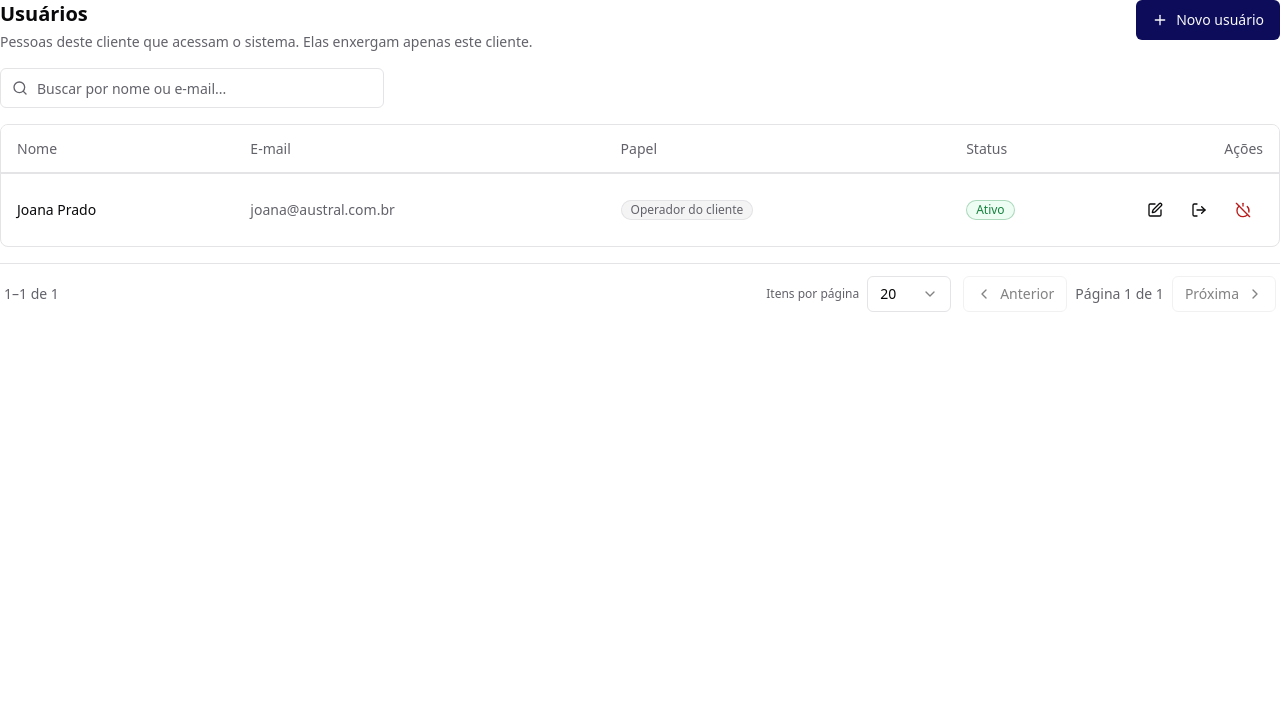
it: ClientUsersScreen — gaveta de criação › exige senha de 10 caracteres com a mesma regra do backend
The image size is (1280, 720).
Click the button "Novo usuário" at (1208, 20), box [1136,0,1279,40]
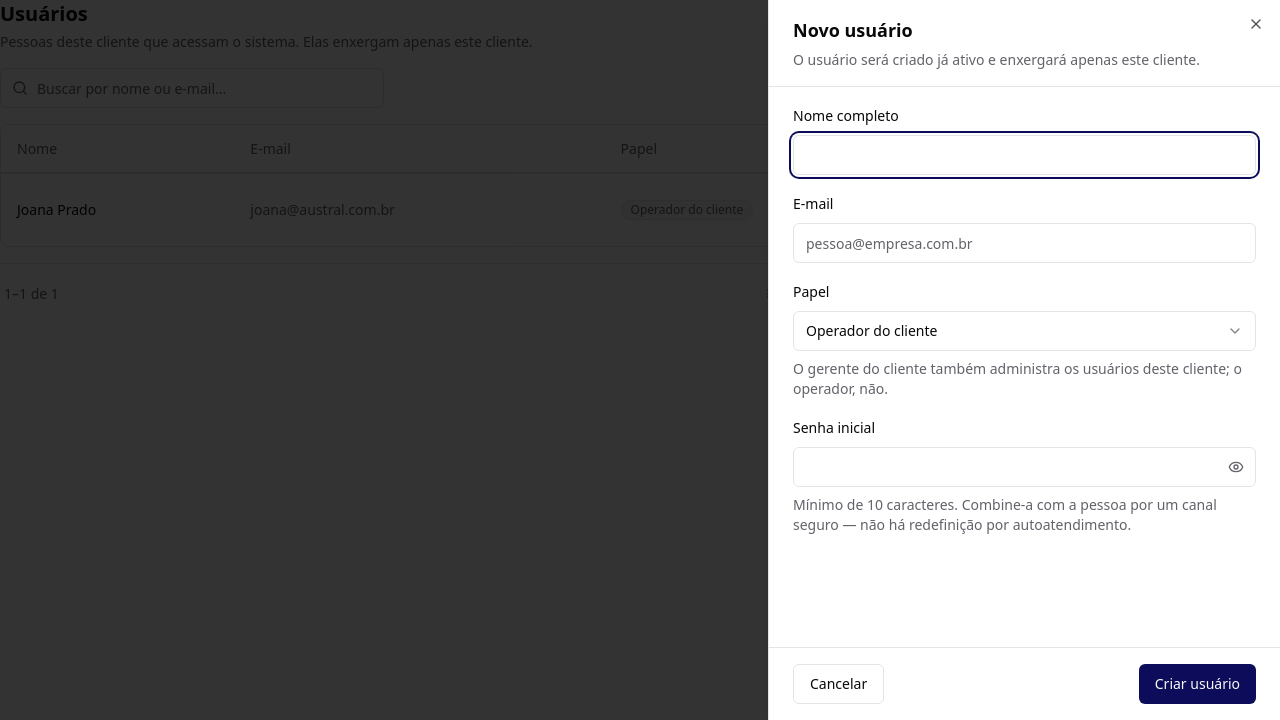
Check: the dialog is shown, box [768,0,1279,719]
Type "João Austral" into the field labelled "Nome completo" at (1024, 155), box [793,135,1256,175]
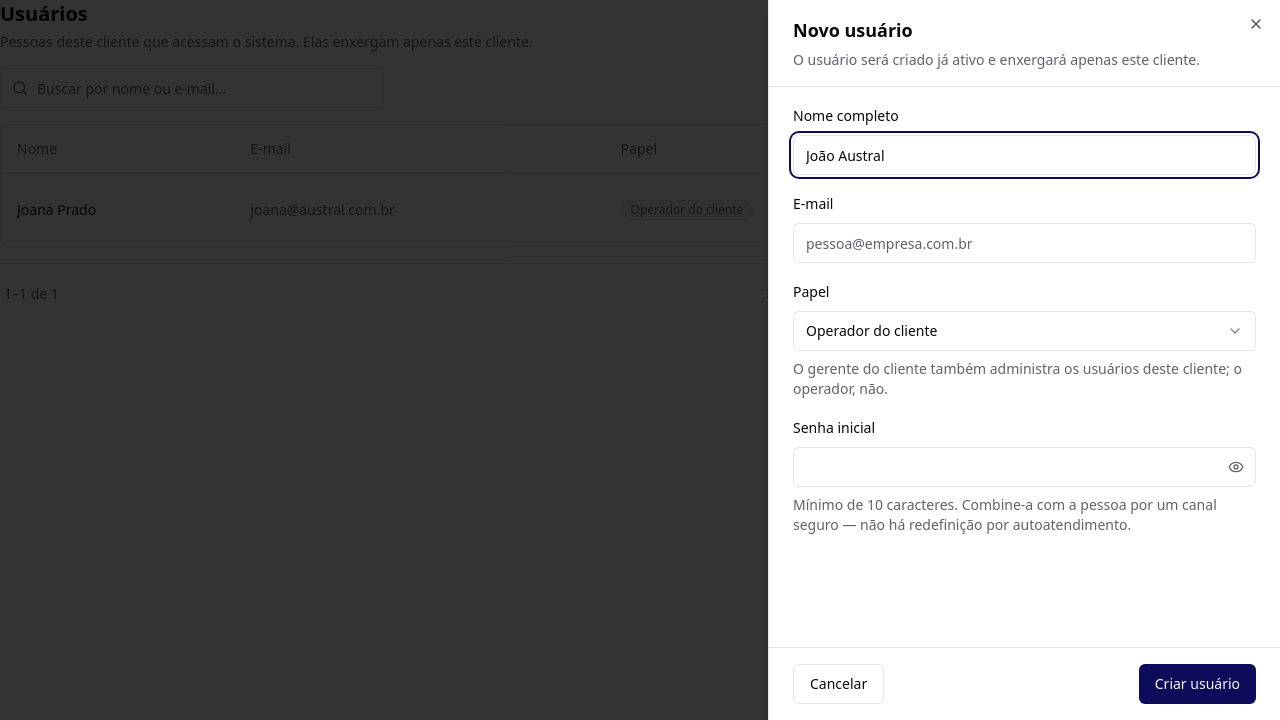
Type "joao@austral.com.br" into the field labelled "E-mail" at (1024, 243), box [793,223,1256,263]
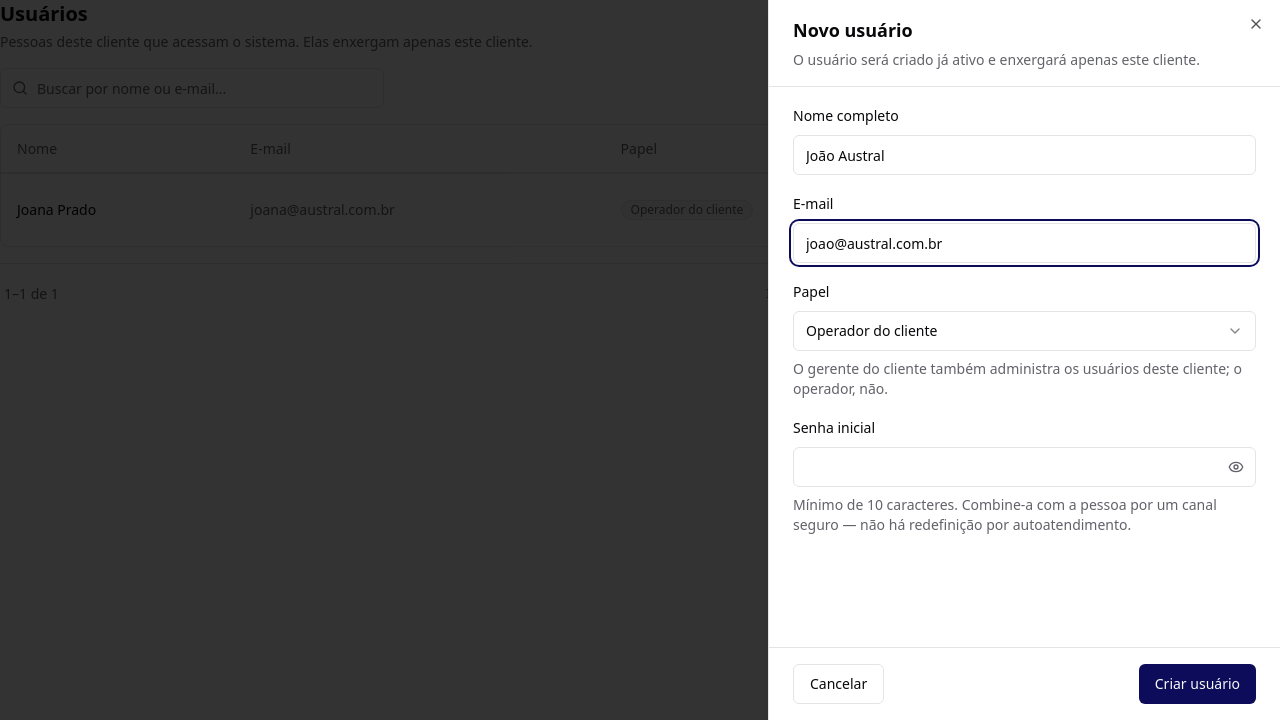
Type "curta123" into the password field labelled "Senha inicial" at (1024, 467), box [793,447,1256,487]
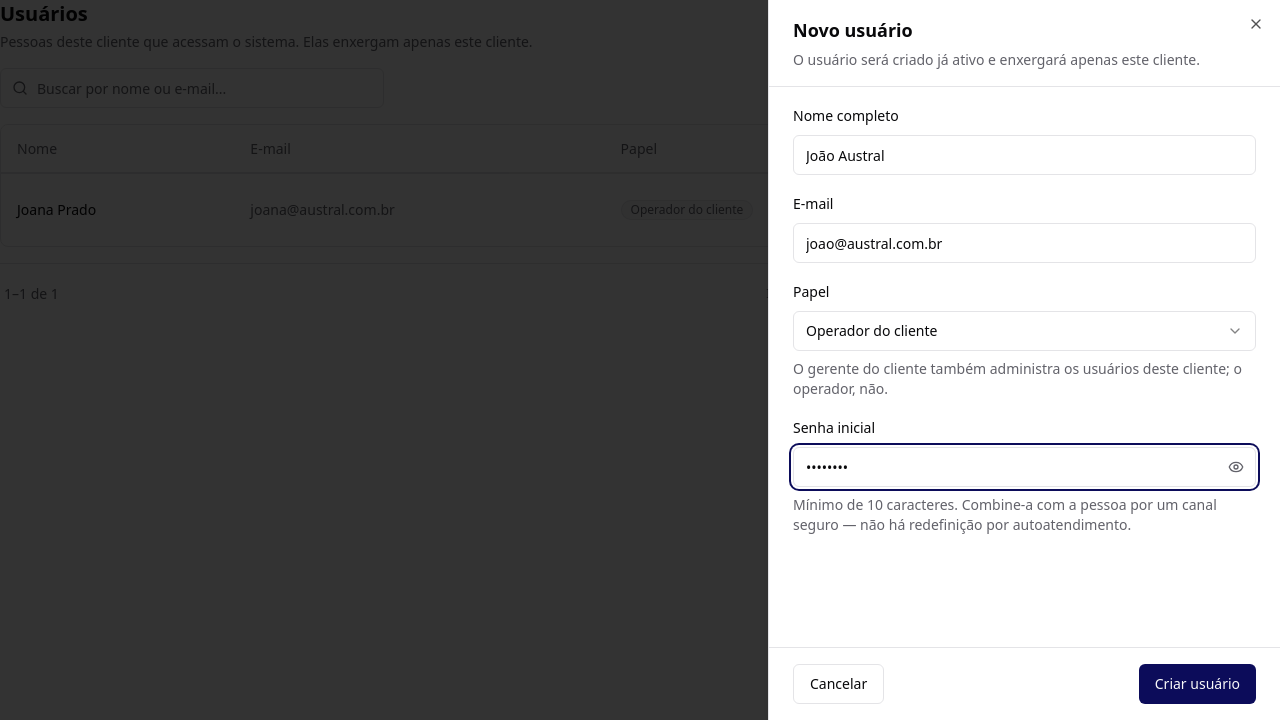
Click the button "Criar usuário" at (1197, 684), box [1139,664,1256,704]
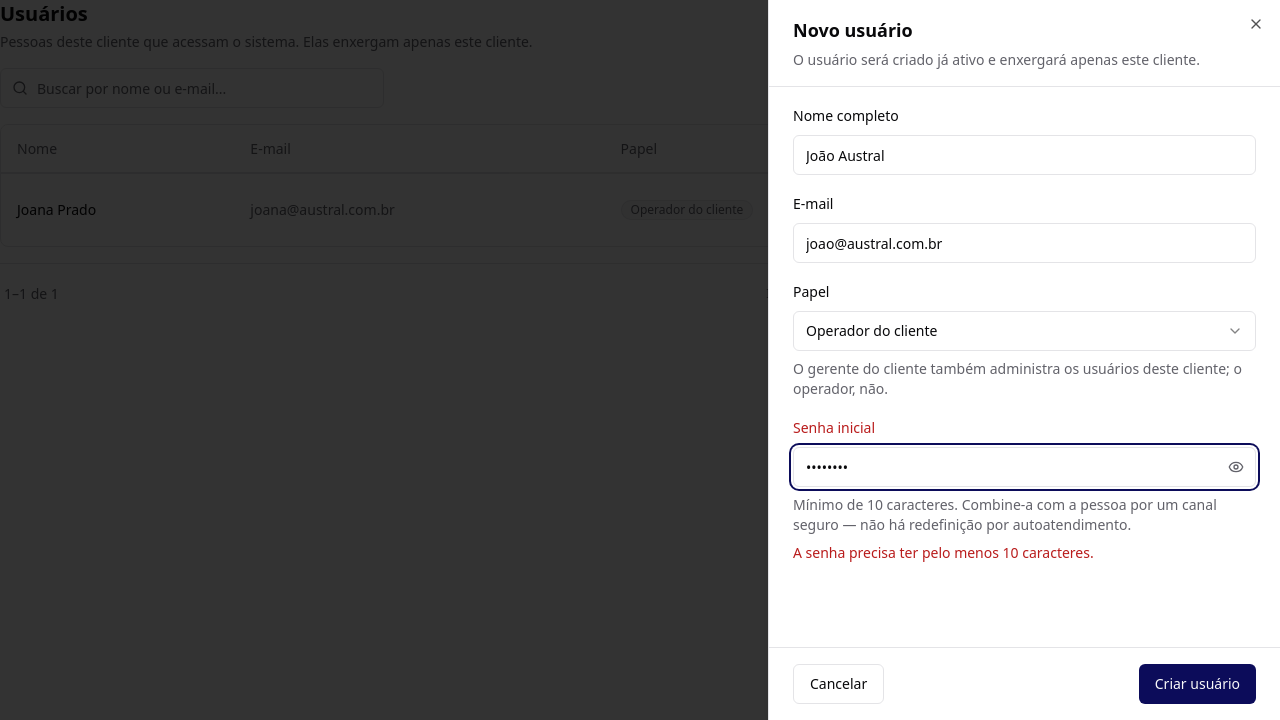
Check: the text "A senha precisa ter pelo menos 10 caracteres." is shown, box [793,543,1094,562]
